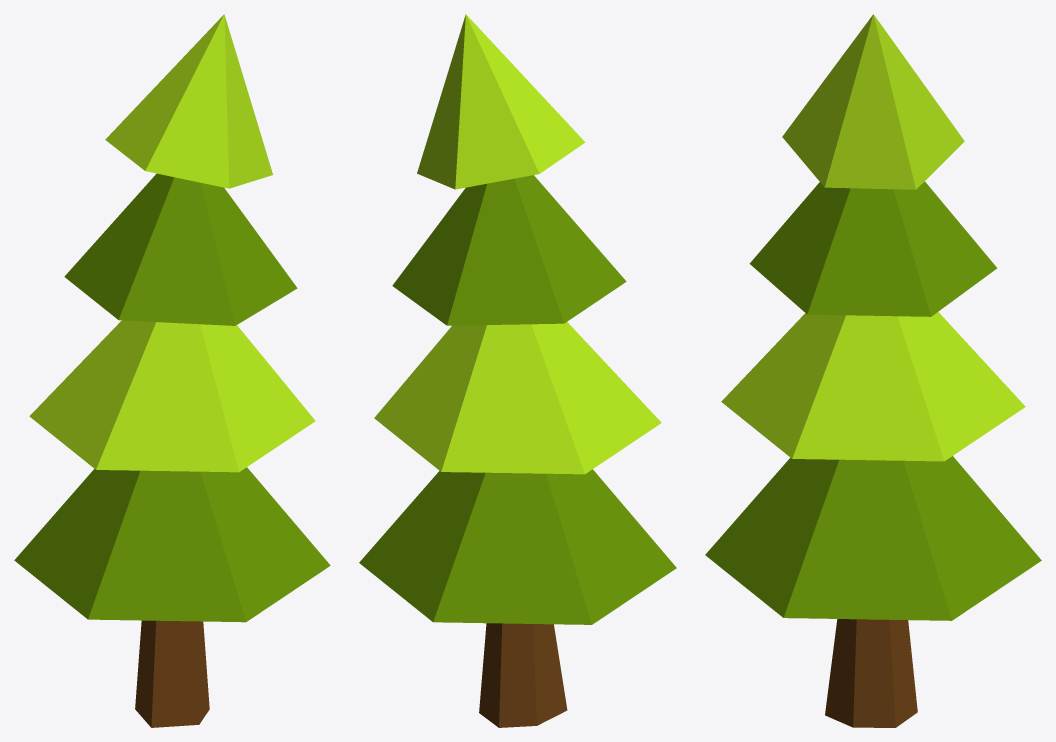
File: tree1.fbx
3 views of the same model, side by side, from view 1: azimuth 30°, elevation 25°; view 2: azimuth 150°, elevation 25°; view 3: azimuth 270°, elevation 25° (orthographic). The views are drawn at different scales.
Visible parts, largest first — view 1: Tree1; view 2: Tree1; view 3: Tree1.
Part boxes in pixels (bbox=[...]): Tree1: bbox=[14, 14, 330, 727]; Tree1: bbox=[359, 14, 676, 727]; Tree1: bbox=[705, 14, 1041, 727].
Bounding box in the file's own units: 1.41 × 3.78 × 1.59.
